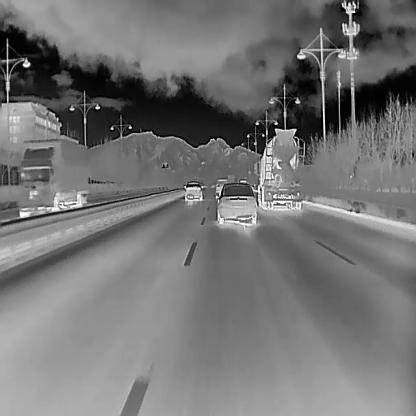car: (18, 140, 88, 218), (256, 128, 302, 209), (216, 181, 257, 224), (182, 180, 203, 202), (214, 178, 227, 199)
